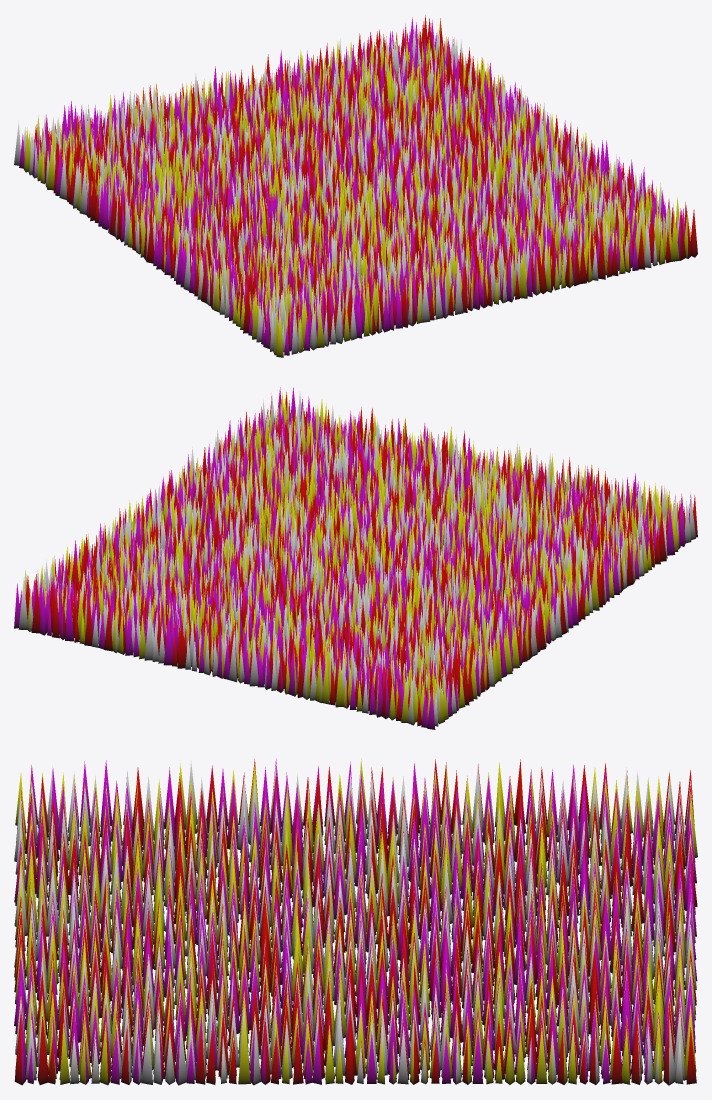
The model's file is vegetationGrassVC.FBX.
3 renders of one model, top to bottom at view 1: azimuth 30°, elevation 25°; view 2: azimuth 150°, elevation 25°; view 3: azimuth 270°, elevation 25°, orthographic. The views are drawn at different scales.
Parts seen in each view (by area): view 1: Cone001; view 2: Cone001; view 3: Cone001.
Boxes of the visible parts, <box> form: Cone001: <box>14,15,697,357</box>; Cone001: <box>14,387,697,729</box>; Cone001: <box>14,758,697,1085</box>.
Bounding box in the file's own units: 10.96 × 1.3 × 12.
